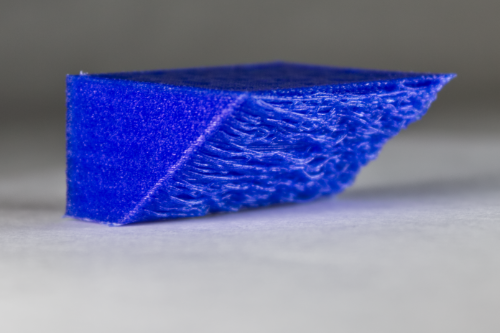blob: (211, 134, 359, 175), (230, 102, 406, 133), (187, 166, 342, 195)
